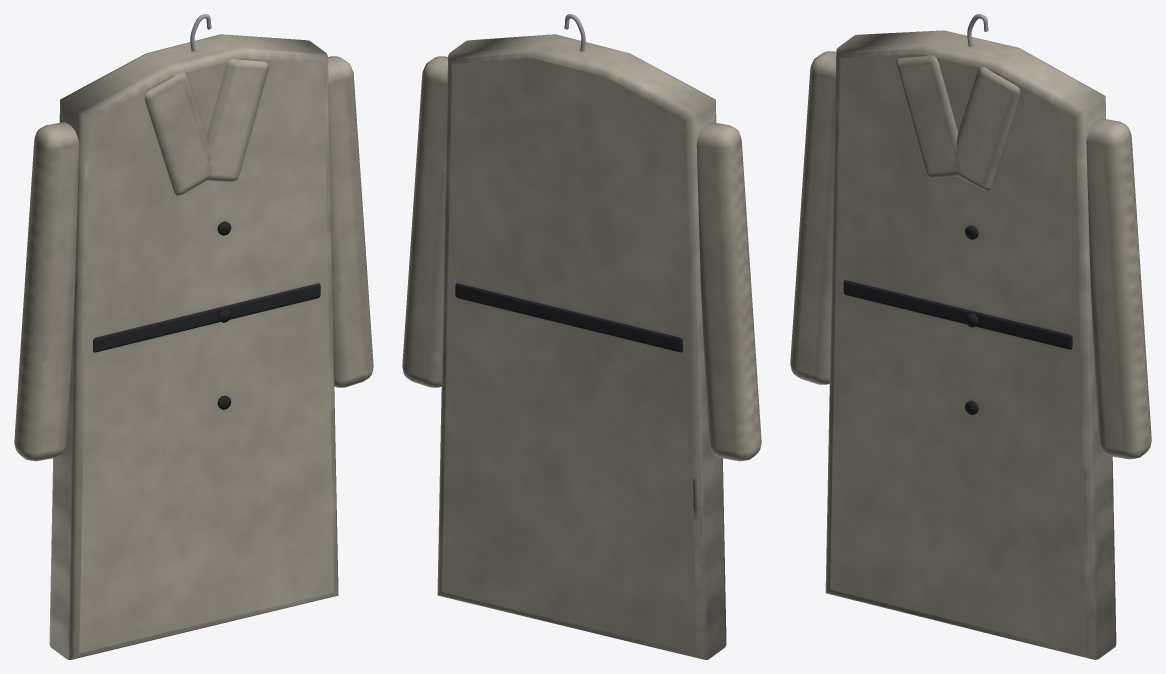
File: ciuch_plaszcz.glb
The picture shows the model from 3 angles, left to right: view 1: azimuth 30°, elevation 25°; view 2: azimuth 150°, elevation 25°; view 3: azimuth 330°, elevation 25°; orthographic projection.
Parts seen in each view (by area): view 1: TintTkanina, Wieszak; view 2: TintTkanina, Wieszak; view 3: TintTkanina, Wieszak.
Part boxes in pixels (x1=…): TintTkanina: x1=14, y1=34, x2=373, y2=659; Wieszak: x1=93, y1=14, x2=320, y2=409; TintTkanina: x1=402, y1=34, x2=761, y2=659; Wieszak: x1=455, y1=14, x2=682, y2=352; TintTkanina: x1=790, y1=30, x2=1151, y2=659; Wieszak: x1=843, y1=14, x2=1072, y2=414.
Bounding box in the file's own units: 0.6752 × 1.11 × 0.097.
Materials: 4 (1 with a texture image).
